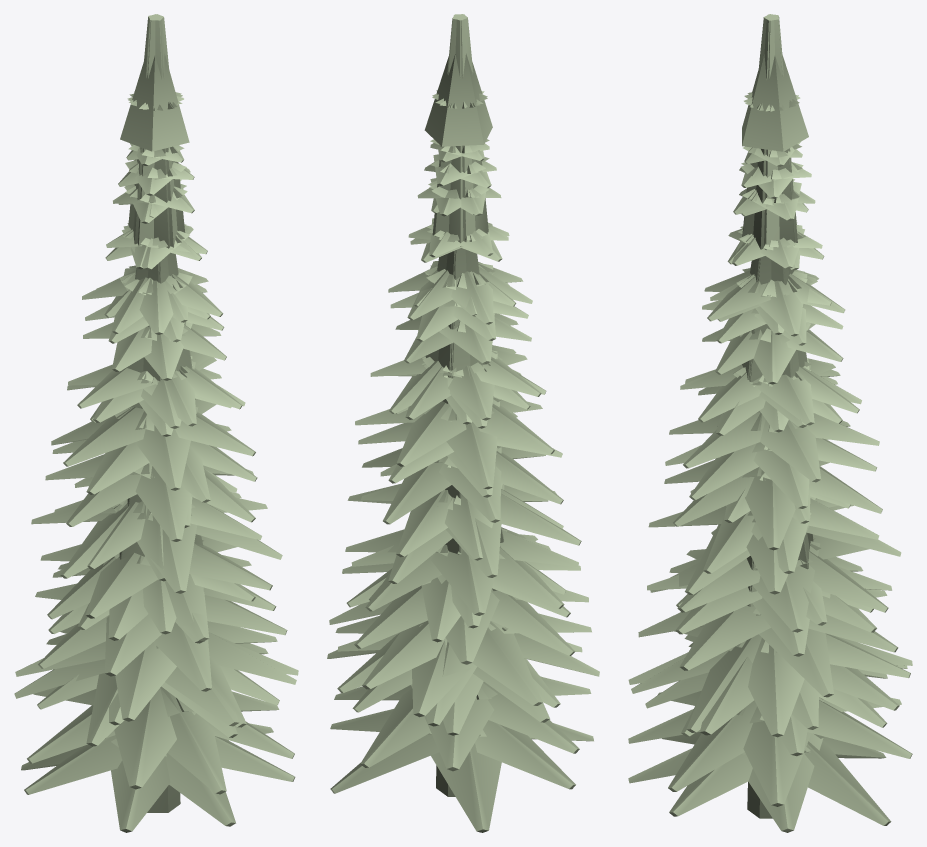
Rendered from tree_def_conifer.glb.
3 views of the same model, side by side, from view 1: azimuth 30°, elevation 25°; view 2: azimuth 150°, elevation 25°; view 3: azimuth 270°, elevation 25° (orthographic). The views are drawn at different scales.
Parts seen in each view (by area): view 1: tier2_foliage, tier1_foliage, tier0_foliage, tier0_bark; view 2: tier2_foliage, tier1_foliage, tier0_foliage; view 3: tier2_foliage, tier1_foliage, tier0_foliage.
Part boxes in pixels (box(x1,y1,x2,y2)): tier2_foliage: box(14, 14, 298, 746); tier1_foliage: box(15, 14, 296, 794); tier0_foliage: box(21, 14, 295, 832); tier0_bark: box(147, 686, 180, 812); tier2_foliage: box(327, 14, 599, 722); tier1_foliage: box(334, 14, 591, 771); tier0_foliage: box(330, 14, 593, 832); tier2_foliage: box(628, 14, 912, 756); tier1_foliage: box(628, 15, 912, 806); tier0_foliage: box(628, 14, 891, 832).
Bounding box in the file's own units: 0.3288 × 1 × 0.3255.
